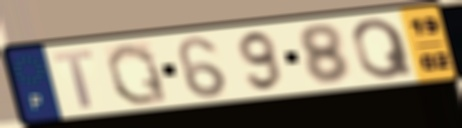6: (175, 34, 230, 101)
8: (296, 21, 355, 88)
9: (235, 28, 286, 92)
Q: (103, 41, 171, 107), (350, 16, 417, 81)
T: (50, 47, 97, 111)
